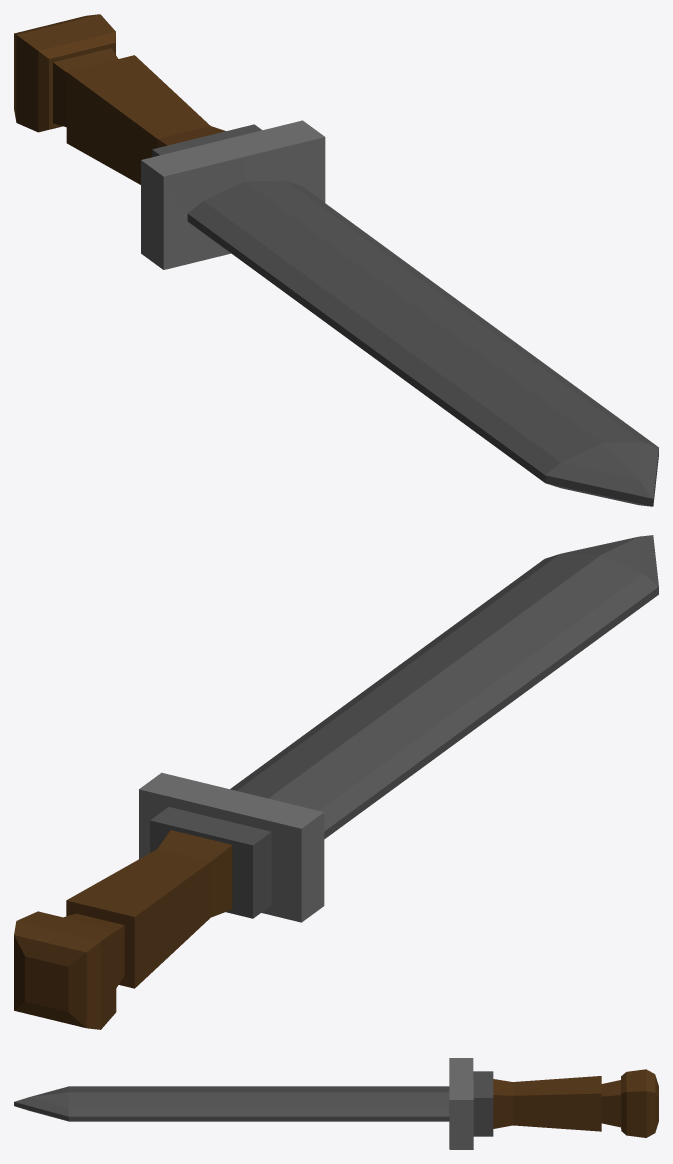
The model's file is F_Sword_A.fbx.
The picture shows the model from 3 angles, top to bottom: view 1: azimuth 30°, elevation 25°; view 2: azimuth 150°, elevation 25°; view 3: azimuth 270°, elevation 25°; orthographic projection. The views are drawn at different scales.
Visible parts, largest first — view 1: F_Sword_A; view 2: F_Sword_A; view 3: F_Sword_A.
Boxes of the visible parts, x1,y1,x2,y2 form: F_Sword_A: [14, 14, 658, 506]; F_Sword_A: [14, 535, 658, 1029]; F_Sword_A: [14, 1058, 658, 1149].
Bounding box in the file's own units: 15.82 × 8.73 × 102.
